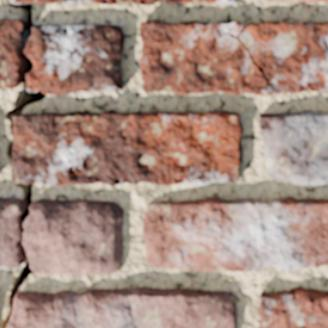brick: (14, 112, 242, 186), (140, 21, 327, 95), (144, 197, 327, 270), (9, 288, 236, 327), (261, 112, 327, 184), (258, 288, 327, 327), (9, 0, 235, 4), (233, 23, 244, 34), (302, 0, 327, 2)
broken_brick: (24, 199, 124, 276), (27, 23, 125, 95), (0, 19, 24, 90), (0, 196, 21, 270)
crack: (0, 2, 47, 327), (216, 22, 274, 88), (52, 112, 112, 126)
